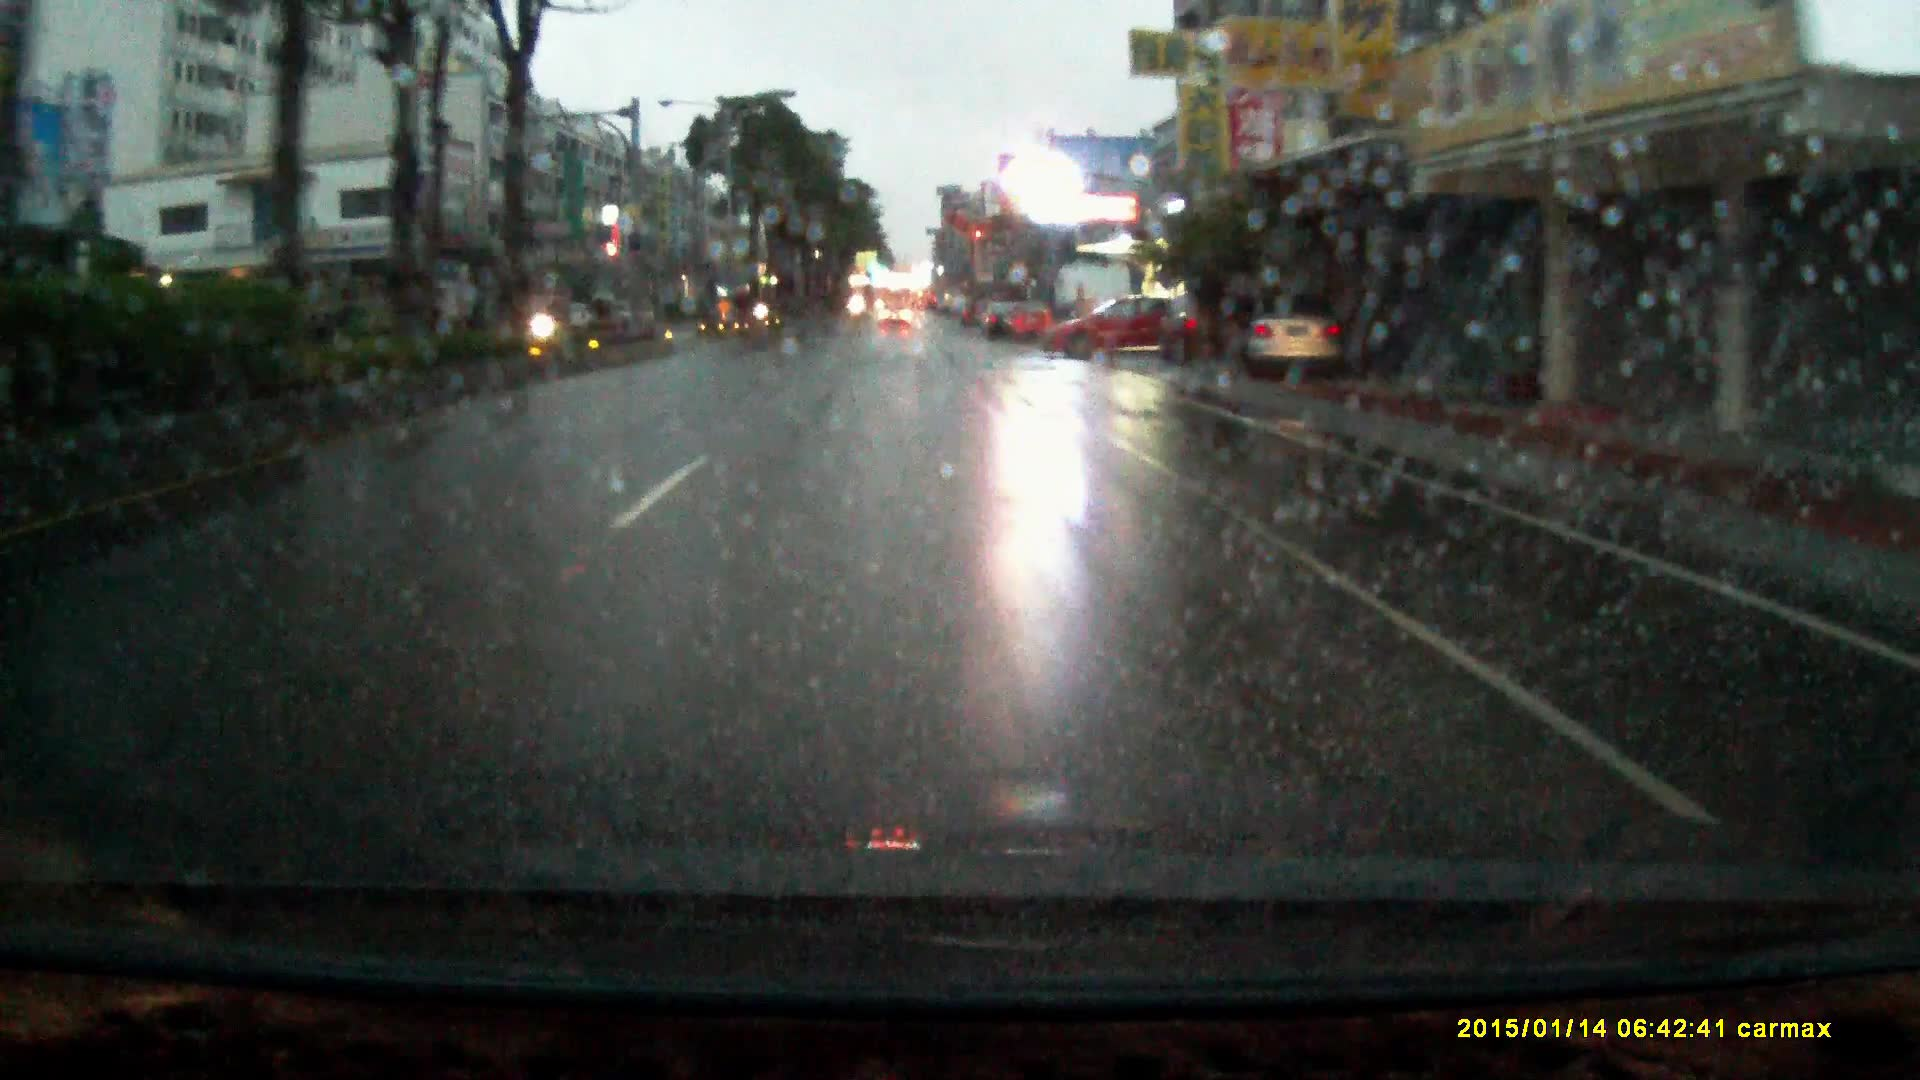vehicle: (1036, 291, 1189, 357), (1237, 293, 1348, 378), (1158, 285, 1255, 365), (500, 295, 578, 340), (1007, 297, 1055, 340), (978, 298, 1023, 338), (880, 301, 914, 328)
